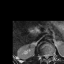CCS_normal: (46, 52, 47, 60)
LFS_stenosis: (49, 52, 51, 58)
LLS_normal: (47, 52, 49, 59)
RFS_severe_stenosis: (42, 53, 44, 58)
RLS_normal: (44, 52, 46, 59)
